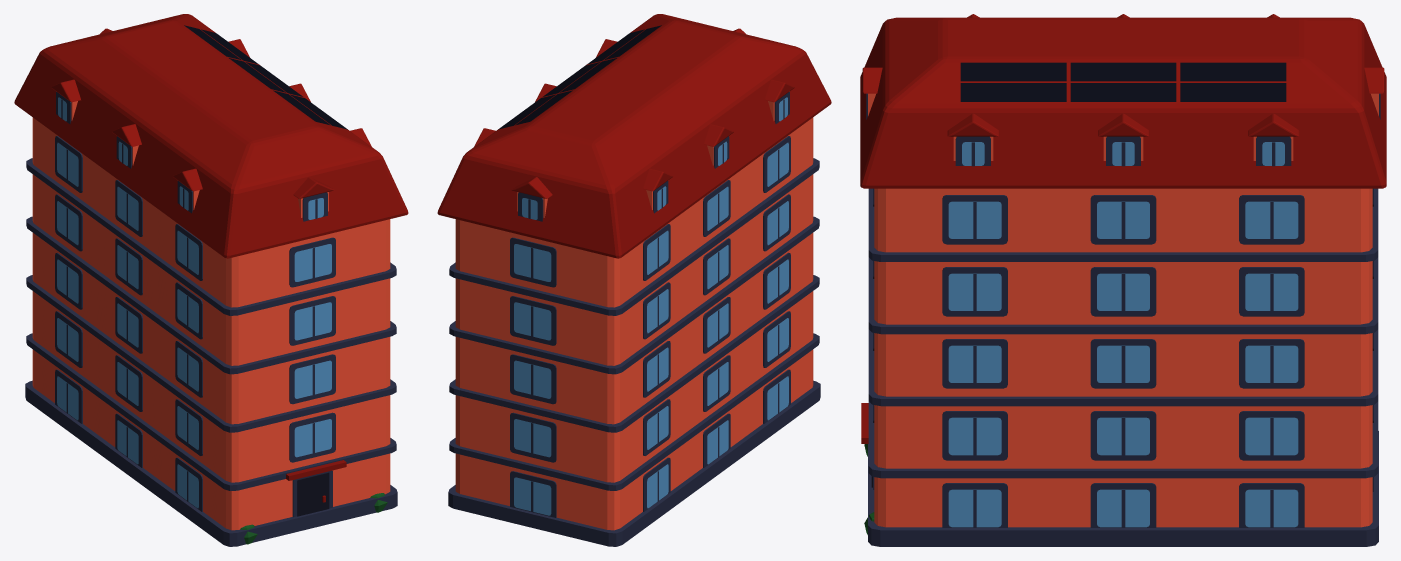
Rendered from house-1x2-5f-mansard-c-solar.glb.
The picture shows the model from 3 angles, left to right: view 1: azimuth 30°, elevation 25°; view 2: azimuth 150°, elevation 25°; view 3: azimuth 270°, elevation 25°; orthographic projection. The views are drawn at different scales.
Visible parts, largest first — view 1: house-1x2-5f-mansard-c-solar; view 2: house-1x2-5f-mansard-c-solar; view 3: house-1x2-5f-mansard-c-solar.
Boxes of the visible parts, box(x1,y1,x2,y2) form: house-1x2-5f-mansard-c-solar: box(14, 14, 408, 546); house-1x2-5f-mansard-c-solar: box(437, 14, 831, 546); house-1x2-5f-mansard-c-solar: box(860, 14, 1386, 546).
Bounding box in the file's own units: 0.9876 × 1.9 × 1.99.
Materials: 1 (1 with a texture image).
